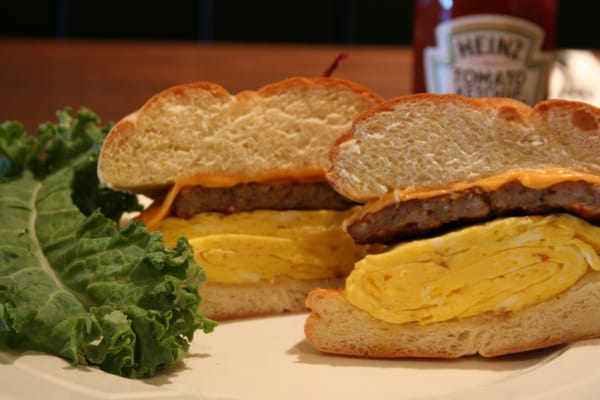soup: (303, 90, 600, 360), (91, 72, 391, 320), (329, 92, 600, 248)
